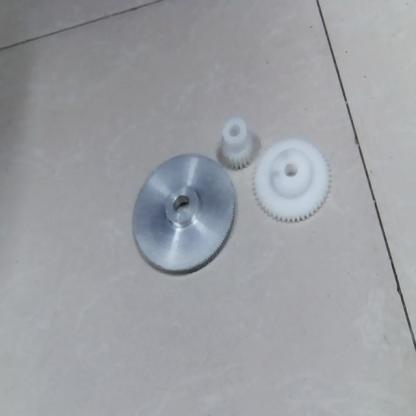FOD: (128, 153, 232, 275), (248, 135, 334, 223), (216, 113, 255, 174)
